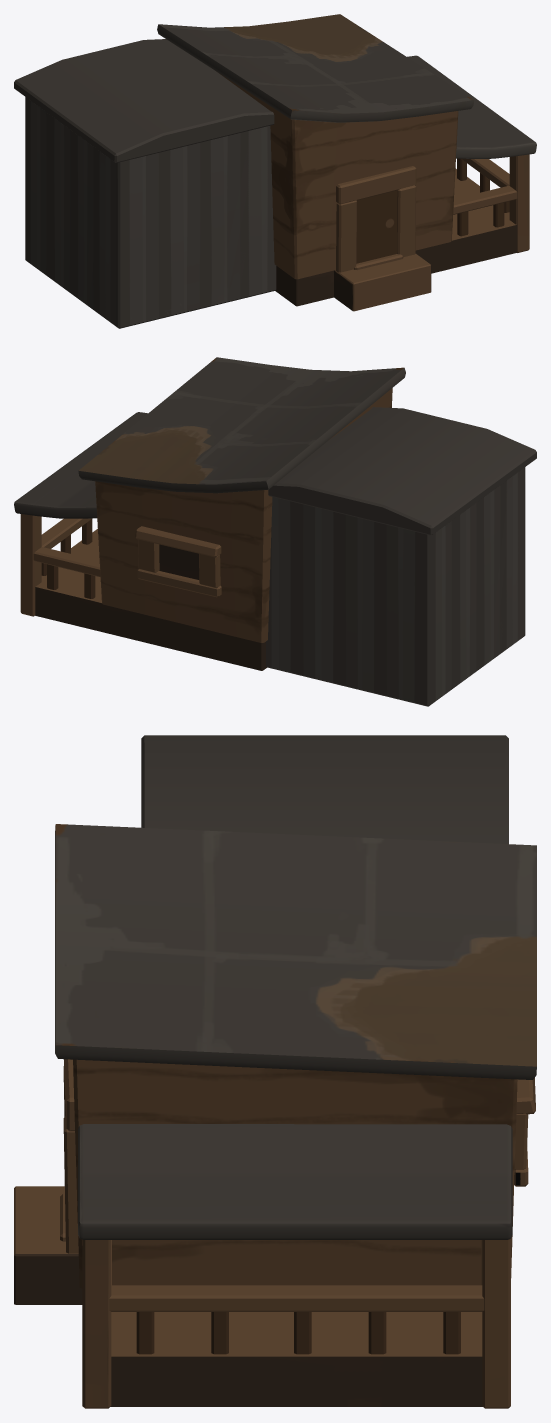
Rendered from Town_House_Double.fbx.
3 renders of one model, top to bottom at view 1: azimuth 30°, elevation 25°; view 2: azimuth 150°, elevation 25°; view 3: azimuth 270°, elevation 25°, orthographic. The views are drawn at different scales.
Parts seen in each view (by area): view 1: side1, main, main_door, terrace_roof, fence1, pCube4, terrace_pillar1; view 2: side1, main, terrace_roof, main_window, fence1, terrace_pillar2; view 3: main, terrace_roof, side1, fence1, terrace_pillar1, terrace_pillar2, main_door, main_window.
Part boxes in pixels (<box>): side1: <box>14,39,276,328</box>; main: <box>157,14,517,311</box>; main_door: <box>336,166,416,272</box>; terrace_roof: <box>407,55,536,158</box>; fence1: <box>453,158,517,236</box>; pCube4: <box>356,190,397,263</box>; terrace_pillar1: <box>509,154,529,252</box>; side1: <box>266,407,536,706</box>; main: <box>35,357,405,670</box>; terrace_roof: <box>14,412,147,518</box>; main_window: <box>135,526,221,597</box>; fence1: <box>33,518,100,598</box>; terrace_pillar2: <box>20,514,41,616</box>; main: <box>14,824,536,1406</box>; terrace_roof: <box>78,1124,512,1239</box>; side1: <box>141,735,508,843</box>; fence1: <box>109,1240,484,1354</box>; terrace_pillar1: <box>82,1240,111,1408</box>; terrace_pillar2: <box>482,1238,510,1408</box>; main_door: <box>60,1059,78,1253</box>; main_window: <box>514,1078,535,1186</box>.
Bounding box in the file's own units: 22.53 × 10.94 × 14.01.
4 materials, 4 textured.
